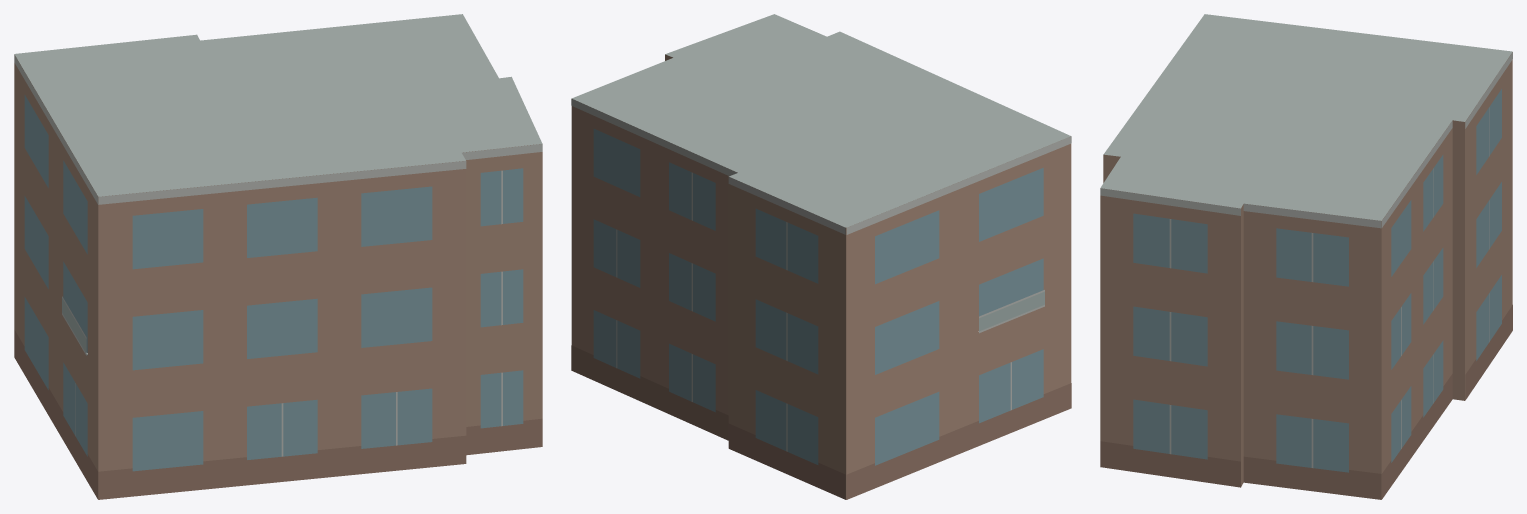
File: survey-upis-32508810.glb
3 renders of one model, left to right at view 1: azimuth 30°, elevation 25°; view 2: azimuth 150°, elevation 25°; view 3: azimuth 270°, elevation 25°, orthographic. The views are drawn at different scales.
Visible parts, largest first — view 1: survey-upis-32508810.tmp; view 2: survey-upis-32508810.tmp; view 3: survey-upis-32508810.tmp.
Part boxes in pixels (x1,y1,x2,y2): survey-upis-32508810.tmp: (14,14,542,499); survey-upis-32508810.tmp: (571,14,1071,499); survey-upis-32508810.tmp: (1100,14,1512,499).
Bounding box in the file's own units: 14.57 × 9.15 × 12.27.
